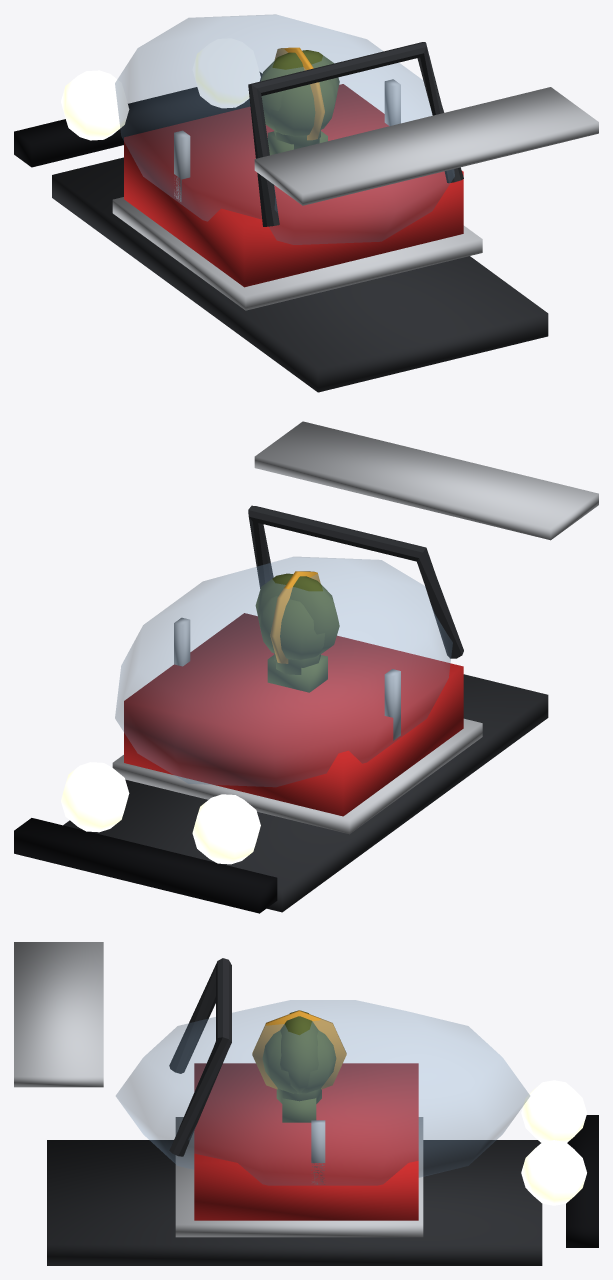
File: buggy.glb
3 views of the same model, one above another, from view 1: azimuth 30°, elevation 25°; view 2: azimuth 150°, elevation 25°; view 3: azimuth 270°, elevation 25° (orthographic). The views are drawn at different scales.
Parts seen in each view (by area): view 1: Buggy; view 2: Buggy; view 3: Buggy.
Part boxes in pixels (x1,y1,x2,y2): Buggy: (14, 14, 598, 392); Buggy: (14, 421, 598, 913); Buggy: (14, 942, 598, 1265).
Bounding box in the file's own units: 1.35 × 1.01 × 2.48.
